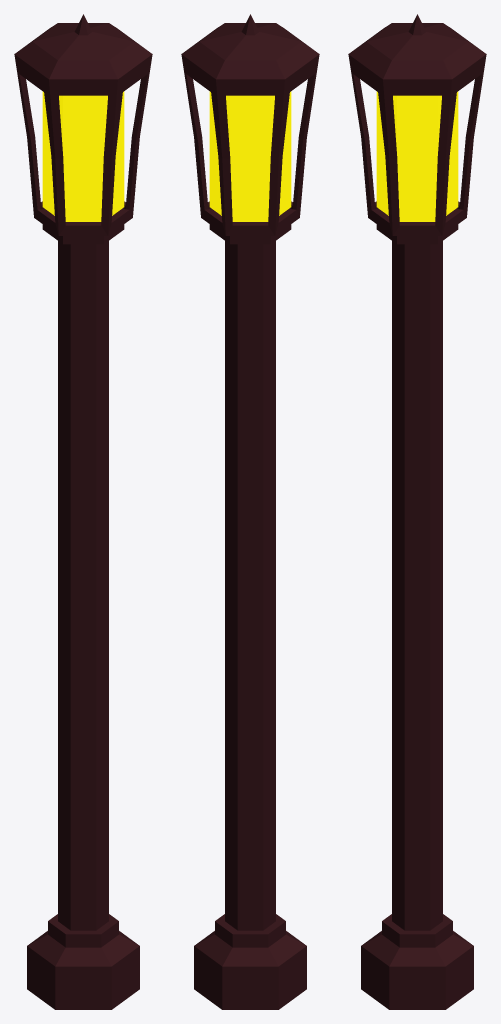
Rendered from street_lighter.glb.
The picture shows the model from 3 angles, left to right: view 1: azimuth 90°, elevation 25°; view 2: azimuth 150°, elevation 25°; view 3: azimuth 270°, elevation 25°; orthographic projection.
Visible parts, largest first — view 1: base, main, light; view 2: base, main, light; view 3: base, main, light.
Boxes of the visible parts, x1,y1,x2,y2 form: base: (27, 241, 139, 1009); main: (14, 14, 152, 244); light: (42, 91, 124, 221); base: (194, 241, 306, 1009); main: (181, 14, 319, 244); light: (209, 91, 291, 221); base: (361, 241, 473, 1009); main: (348, 14, 486, 244); light: (376, 91, 458, 221).
Bounding box in the file's own units: 2.12 × 19.07 × 2.45.
